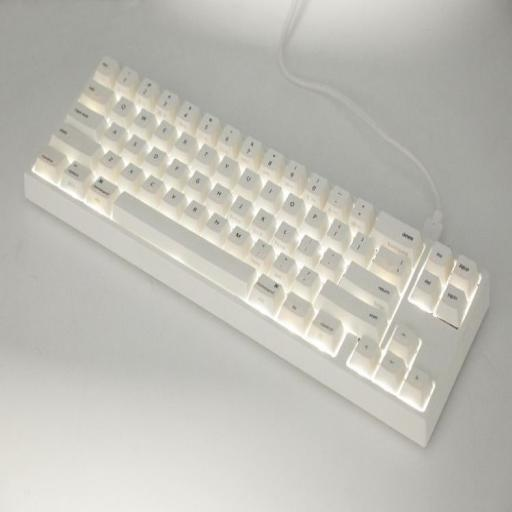keyboard: (22, 57, 496, 464)
